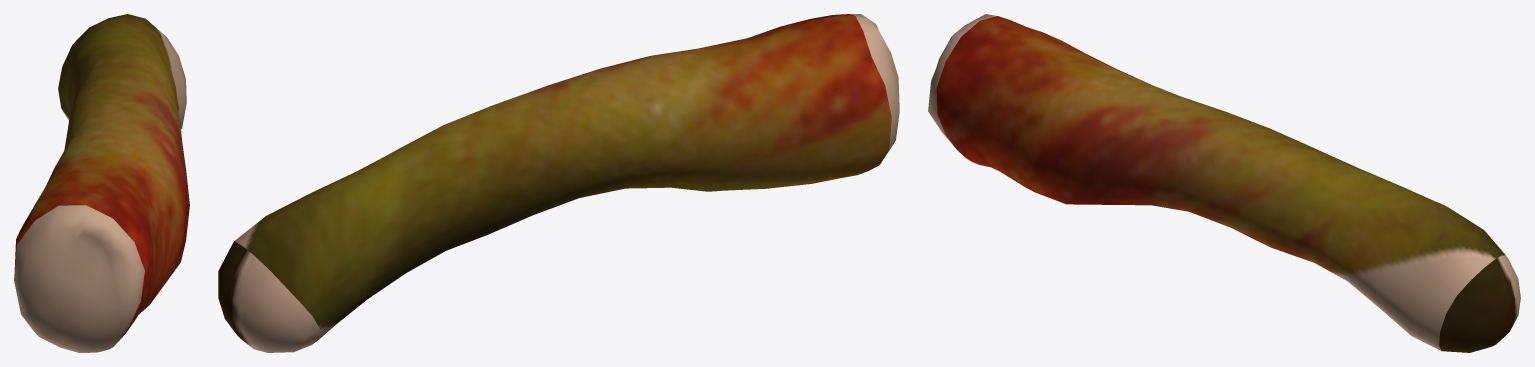
The picture shows the model from 3 angles, left to right: view 1: azimuth 30°, elevation 25°; view 2: azimuth 150°, elevation 25°; view 3: azimuth 270°, elevation 25°; orthographic projection. The views are drawn at different scales.
Size of the model in its own units: 0.1935 by 0.0929 by 0.2634.
